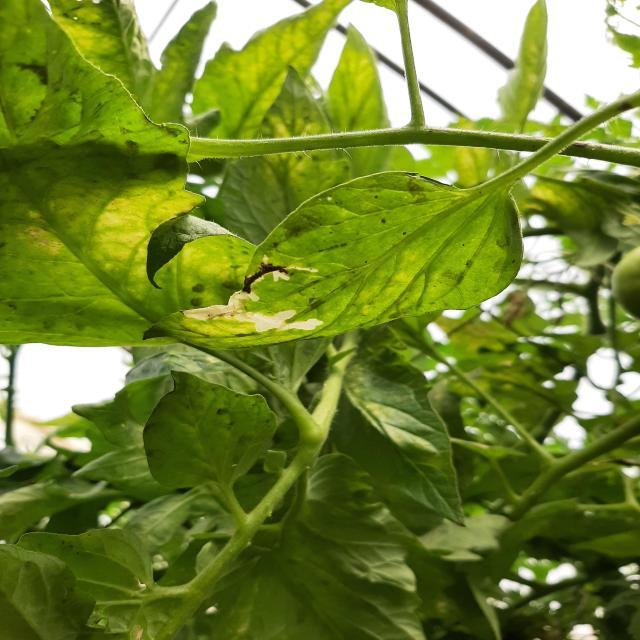Tuta absoluta: (182, 281, 328, 346)
